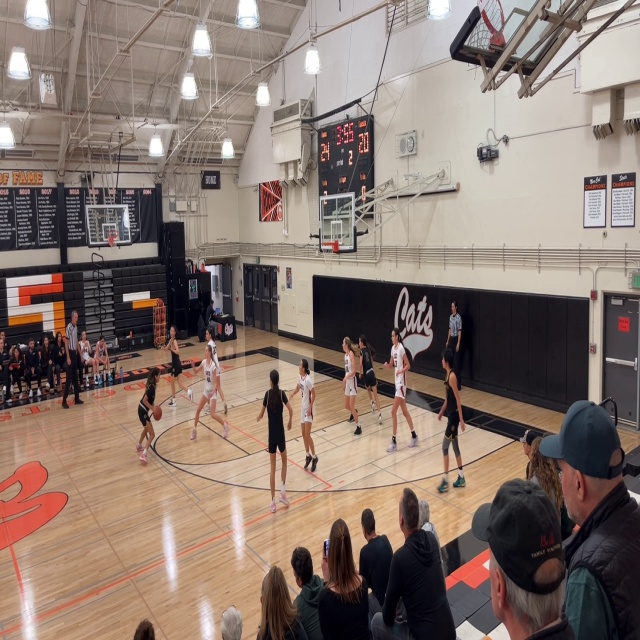Basketball: (153, 405, 162, 421)
